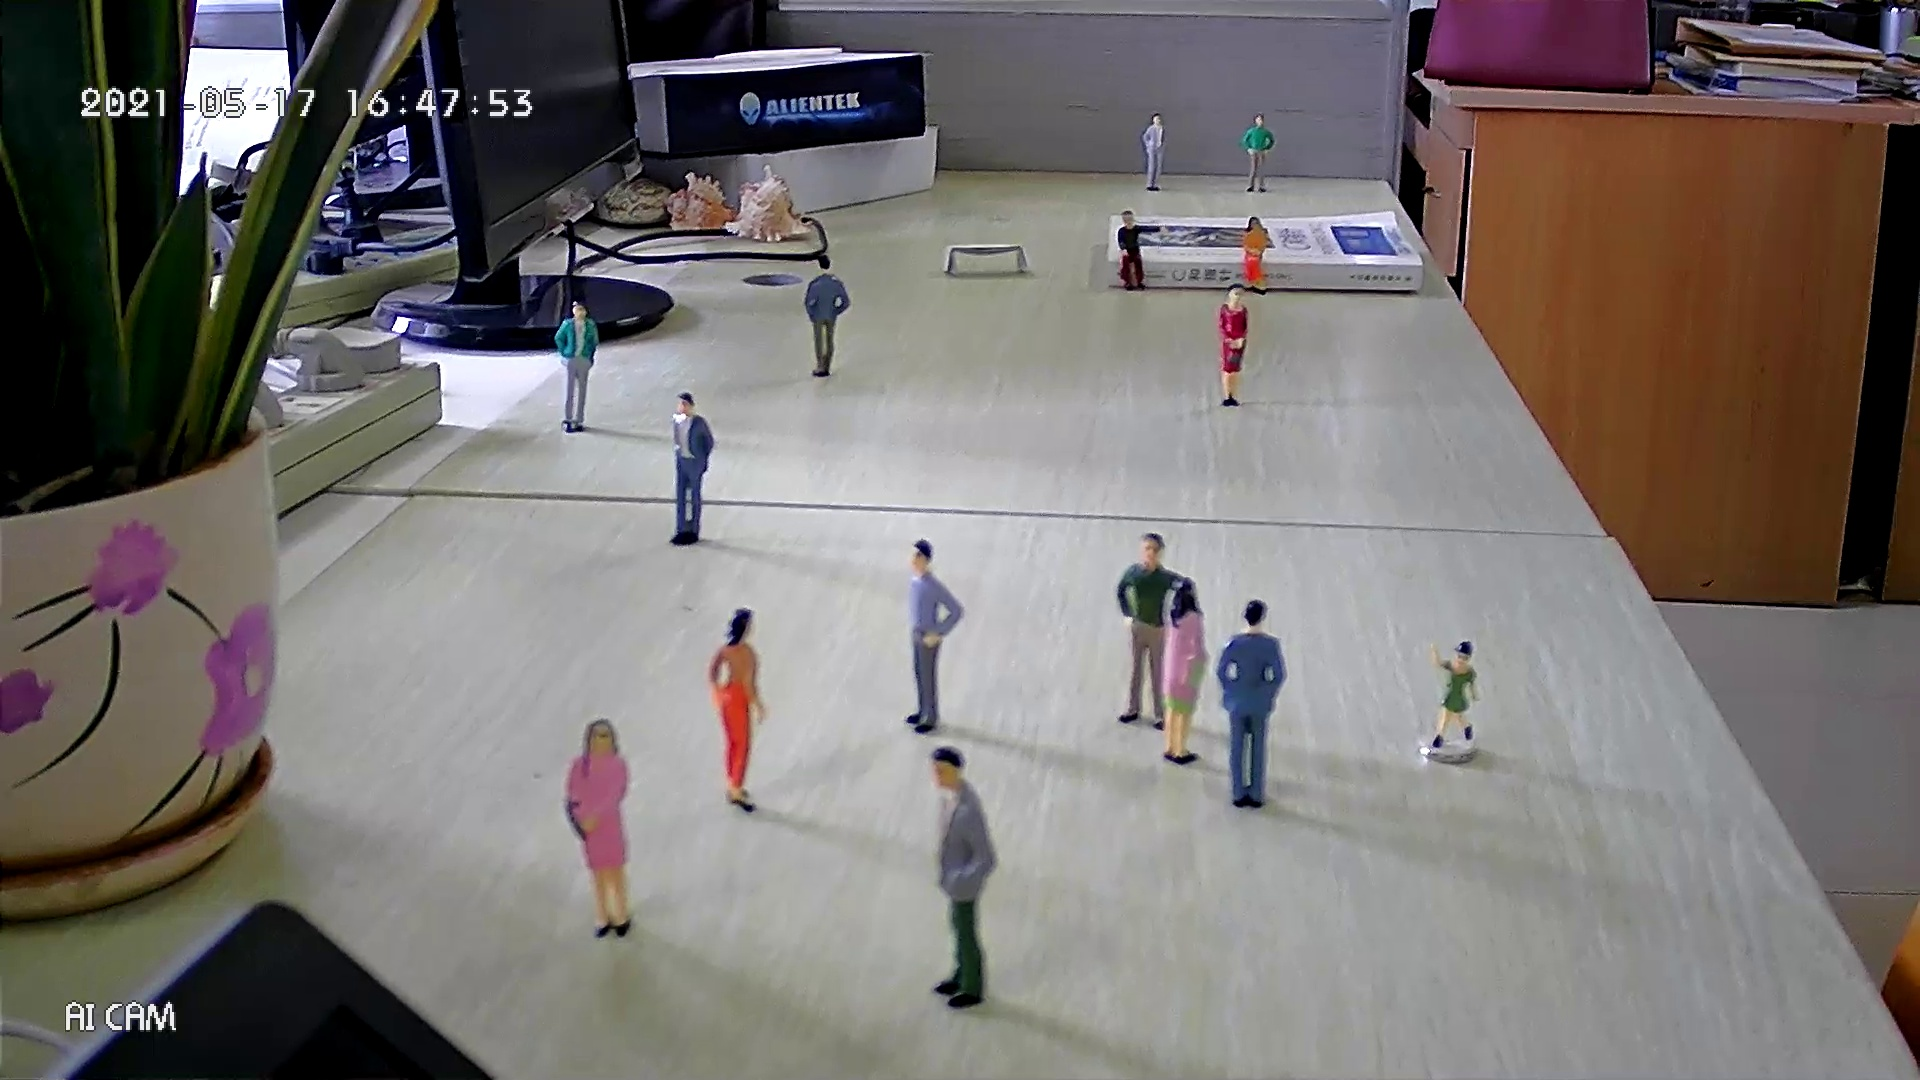person: (923, 740, 1001, 1010), (559, 712, 639, 944), (1211, 594, 1289, 812), (705, 604, 773, 818), (1113, 530, 1183, 730), (899, 534, 967, 738), (1157, 574, 1211, 768), (667, 388, 719, 550), (1419, 632, 1487, 752), (549, 294, 603, 436), (801, 250, 853, 382), (1111, 206, 1175, 296), (1215, 280, 1251, 410), (1235, 212, 1277, 300), (1241, 110, 1279, 196), (1139, 108, 1169, 196)
